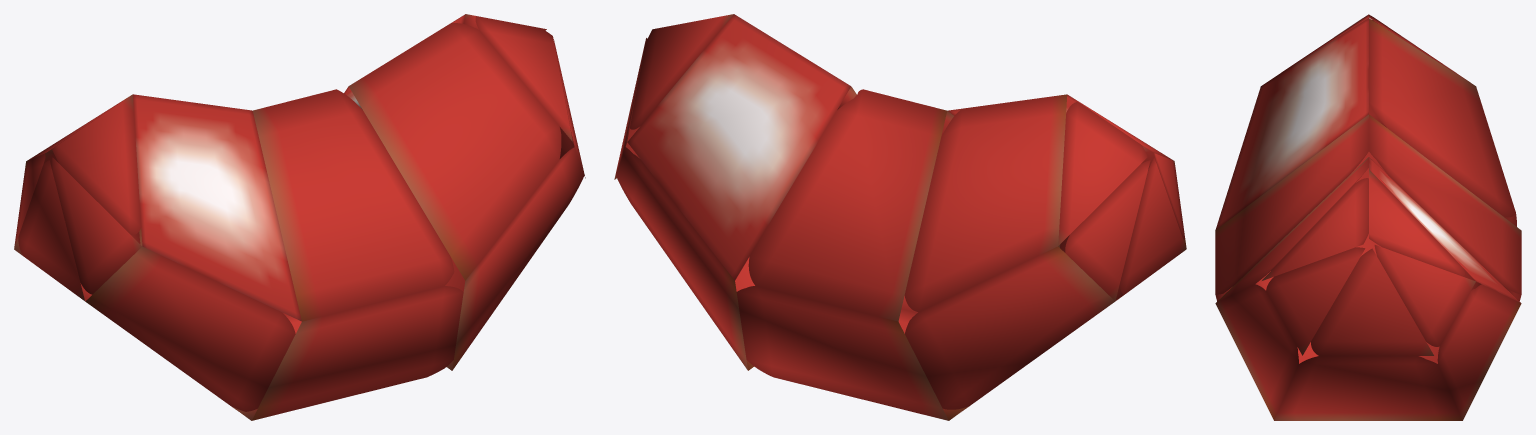
3 renders of one model, left to right at view 1: azimuth 30°, elevation 25°; view 2: azimuth 150°, elevation 25°; view 3: azimuth 270°, elevation 25°, orthographic. The views are drawn at different scales.
Visible parts, largest first — view 1: T1L6M002_8; view 2: T1L6M002_8; view 3: T1L6M002_8.
Boxes of the visible parts, x1=… form: T1L6M002_8: x1=14, y1=14, x2=585, y2=420; T1L6M002_8: x1=614, y1=14, x2=1186, y2=420; T1L6M002_8: x1=1215, y1=14, x2=1521, y2=420.
Bounding box in the file's own units: 0.5547 × 0.3213 × 0.3154.
